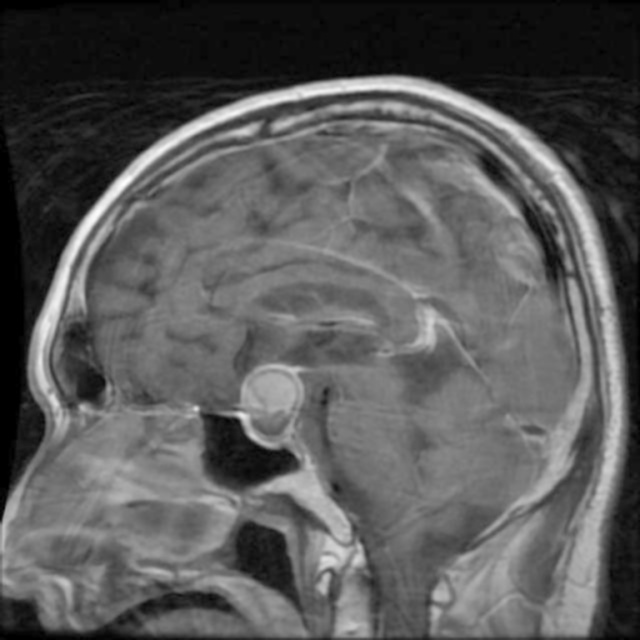no tumor: (230, 358, 314, 462)
